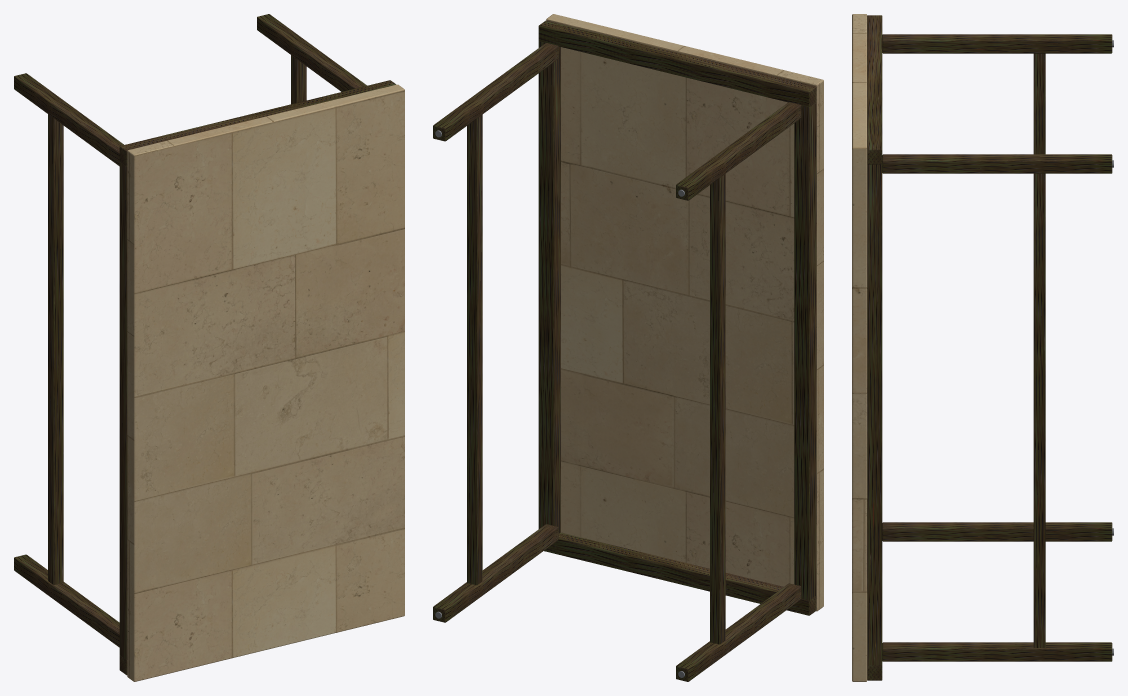
File: optical_bench_table.glb
The picture shows the model from 3 angles, left to right: view 1: azimuth 30°, elevation 25°; view 2: azimuth 150°, elevation 25°; view 3: azimuth 270°, elevation 25°; orthographic projection.
Visible parts, largest first — view 1: OB_TABLE_top, OB_TABLE_STRETCHER-1, OB_TABLE_skirtX-1, OB_TABLE_LEG_-11, OB_TABLE_LEG_-1-1, OB_TABLE_LEG_11, OB_TABLE_skirtY1, OB_TABLE_STRETCHER1; view 2: OB_TABLE_top, OB_TABLE_skirtX-1, OB_TABLE_skirtX1, OB_TABLE_STRETCHER-1, OB_TABLE_STRETCHER1, OB_TABLE_skirtY1, OB_TABLE_skirtY-1, OB_TABLE_LEG_-11, OB_TABLE_LEG_11, OB_TABLE_LEG_1-1, OB_TABLE_LEG_-1-1; view 3: OB_TABLE_top, OB_TABLE_skirtX1, OB_TABLE_STRETCHER1, OB_TABLE_LEG_-11, OB_TABLE_LEG_11, OB_TABLE_LEG_1-1, OB_TABLE_LEG_-1-1, OB_TABLE_skirtY1, OB_TABLE_STRETCHER-1.
Boxes of the visible parts, x1,y1,x2,y2 form: OB_TABLE_top: [127, 84, 404, 681]; OB_TABLE_STRETCHER-1: [48, 114, 63, 584]; OB_TABLE_skirtX-1: [119, 162, 127, 659]; OB_TABLE_LEG_-11: [14, 73, 123, 166]; OB_TABLE_LEG_-1-1: [14, 554, 119, 647]; OB_TABLE_LEG_11: [257, 14, 366, 91]; OB_TABLE_skirtY1: [119, 80, 395, 166]; OB_TABLE_STRETCHER1: [291, 55, 306, 104]; OB_TABLE_top: [546, 14, 823, 611]; OB_TABLE_skirtX-1: [794, 102, 816, 600]; OB_TABLE_skirtX1: [538, 41, 560, 533]; OB_TABLE_STRETCHER-1: [710, 174, 725, 644]; OB_TABLE_STRETCHER1: [467, 114, 482, 585]; OB_TABLE_skirtY1: [538, 20, 816, 106]; OB_TABLE_skirtY-1: [544, 532, 816, 615]; OB_TABLE_LEG_-11: [676, 102, 801, 200]; OB_TABLE_LEG_11: [433, 43, 558, 141]; OB_TABLE_LEG_1-1: [433, 524, 558, 622]; OB_TABLE_LEG_-1-1: [676, 583, 801, 681]; OB_TABLE_top: [852, 14, 867, 681]; OB_TABLE_skirtX1: [867, 165, 882, 665]; OB_TABLE_STRETCHER1: [1033, 173, 1045, 647]; OB_TABLE_LEG_-11: [882, 34, 1112, 53]; OB_TABLE_LEG_11: [882, 154, 1112, 173]; OB_TABLE_LEG_1-1: [882, 642, 1112, 661]; OB_TABLE_LEG_-1-1: [882, 522, 1112, 541]; OB_TABLE_skirtY1: [867, 15, 882, 164]; OB_TABLE_STRETCHER-1: [1033, 53, 1045, 154].
Bounding box in the file's own units: 1.05 × 1.95 × 0.865.
Materials: 3 (2 with a texture image).
